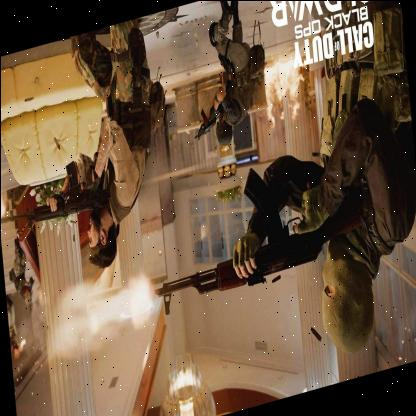rifle: (146, 154, 368, 316), (0, 154, 109, 240)
